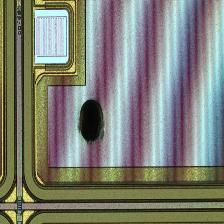PARTICLE: (76, 93, 108, 154)
